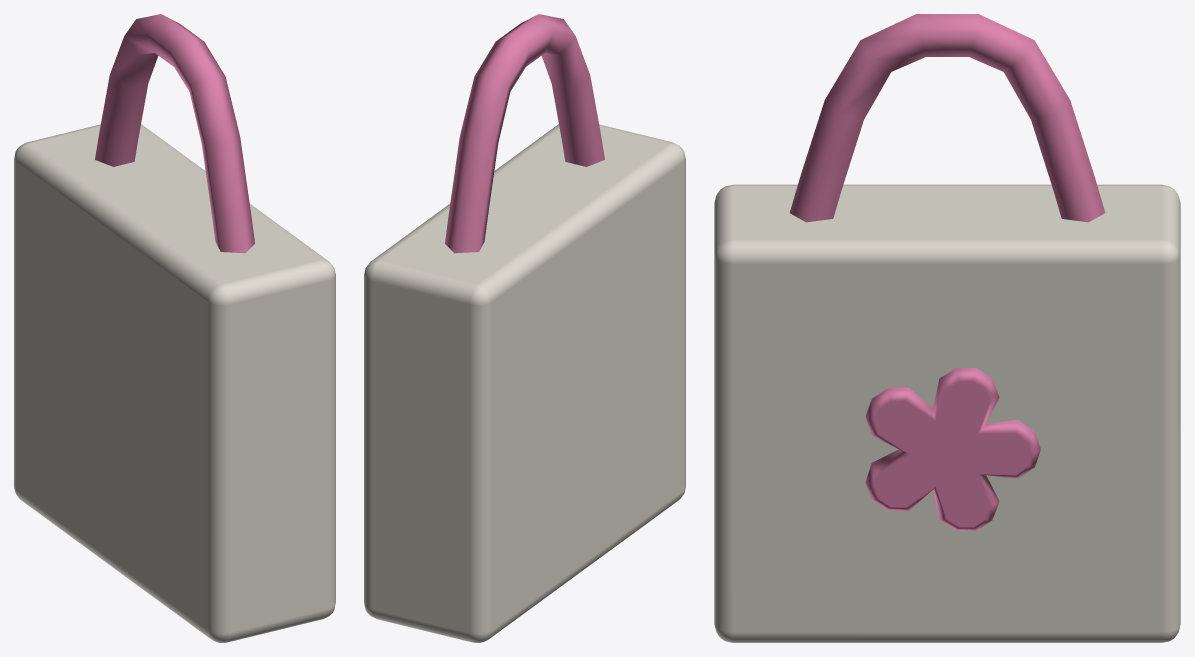
Rendered from apparel_shop_paper_bag.glb.
3 views of the same model, side by side, from view 1: azimuth 30°, elevation 25°; view 2: azimuth 150°, elevation 25°; view 3: azimuth 270°, elevation 25° (orthographic). The views are drawn at different scales.
Parts seen in each view (by area): view 1: apparel_shop_paper_bag_ArmR; view 2: apparel_shop_paper_bag_ArmR; view 3: apparel_shop_paper_bag_ArmR.
Boxes of the visible parts, box(x1,y1,x2,y2) form: apparel_shop_paper_bag_ArmR: box(14, 14, 335, 642); apparel_shop_paper_bag_ArmR: box(364, 14, 685, 642); apparel_shop_paper_bag_ArmR: box(714, 14, 1180, 642).
Size of the model in its own units: 0.076 by 0.2842 by 0.2.
